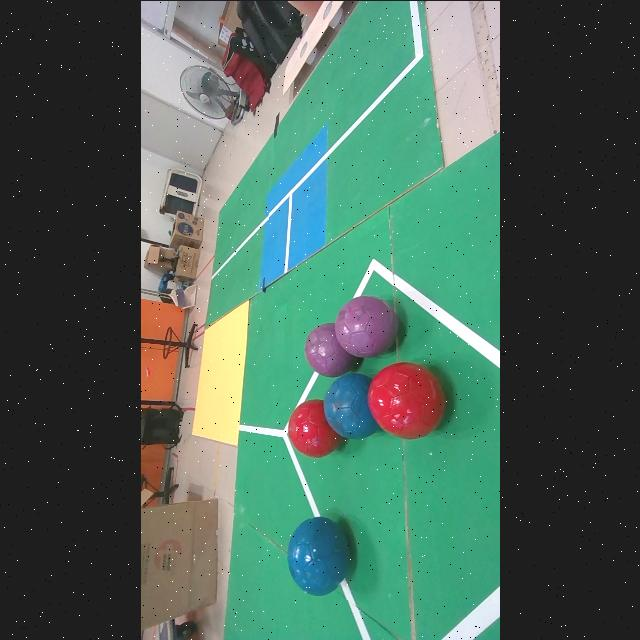B: (286, 515, 350, 595), (323, 373, 378, 438)
P: (334, 294, 398, 355), (304, 322, 356, 376)
R: (367, 361, 445, 438), (288, 399, 341, 457)
